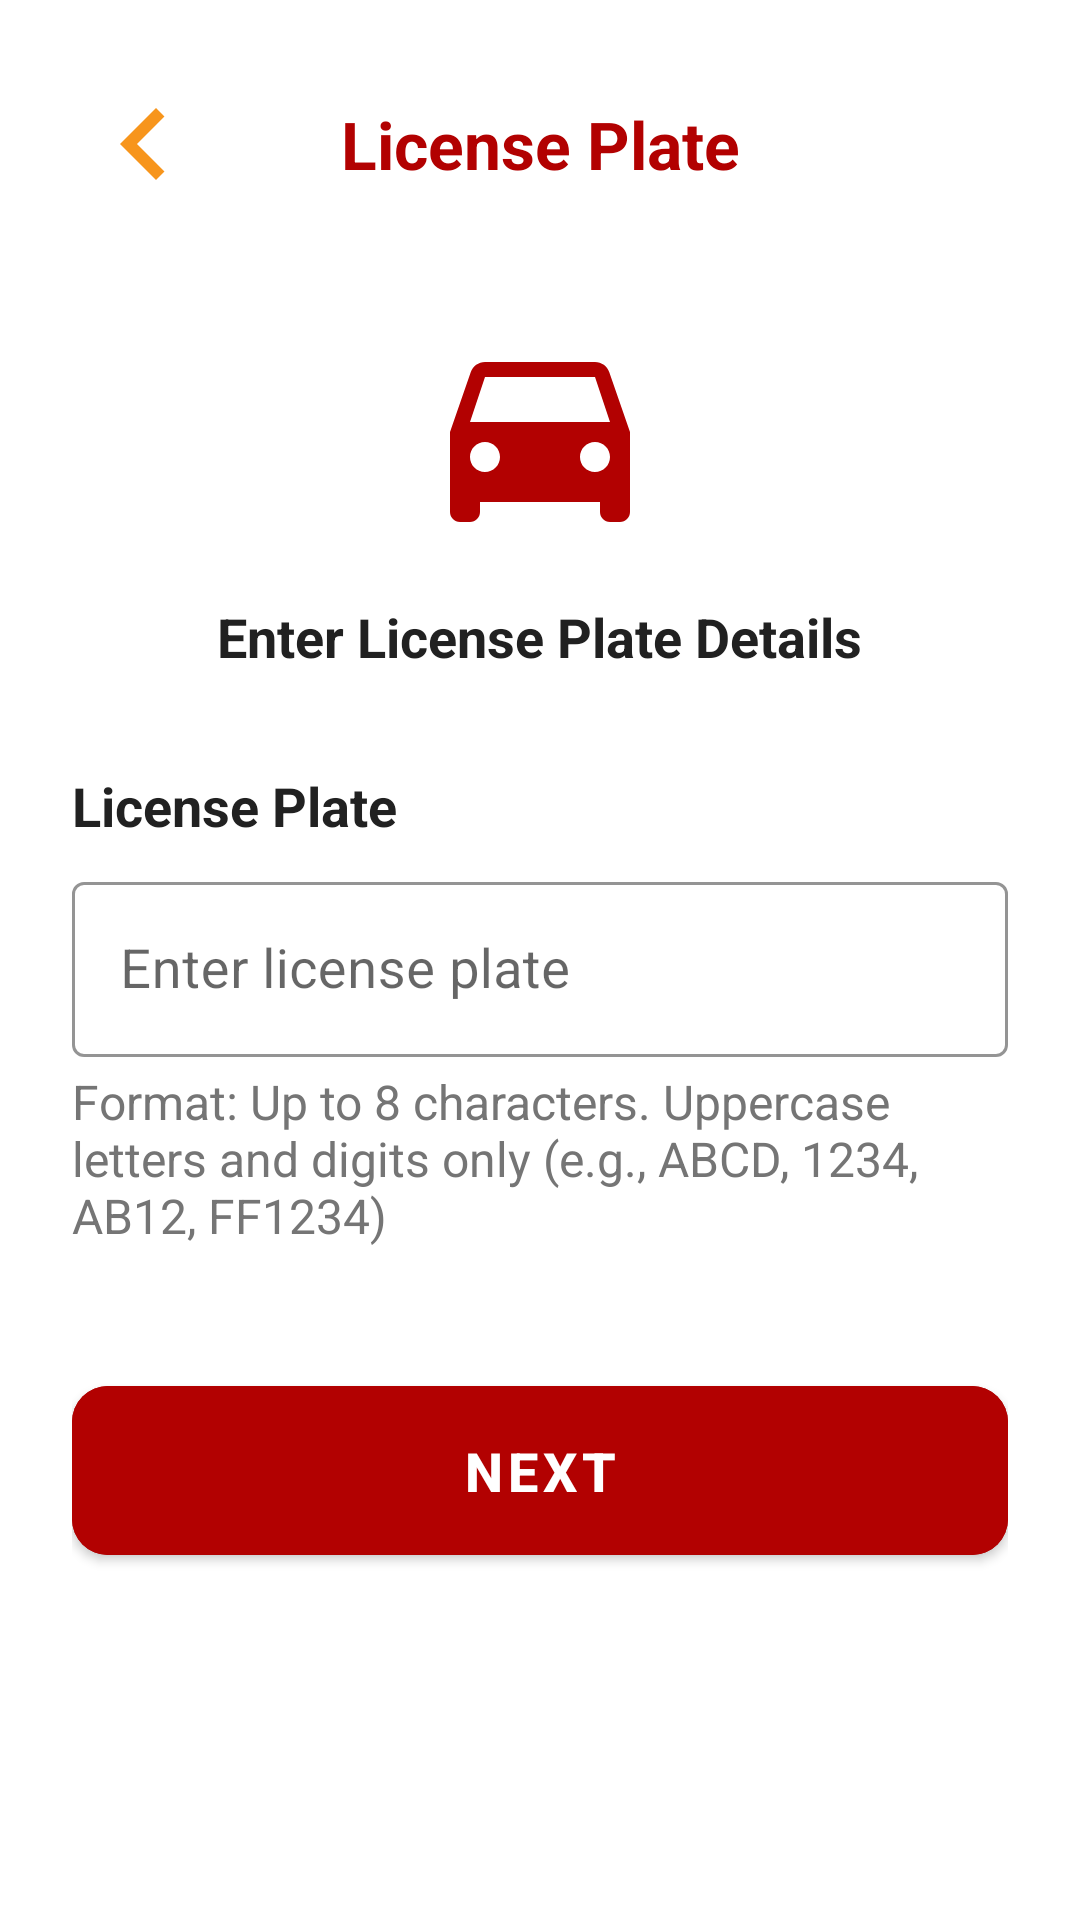

Icons on this 1080*1920 Android screen, each with its box as box(x1, y1, x2, y2):
Vehicle Icon: box(450, 362, 630, 522)
